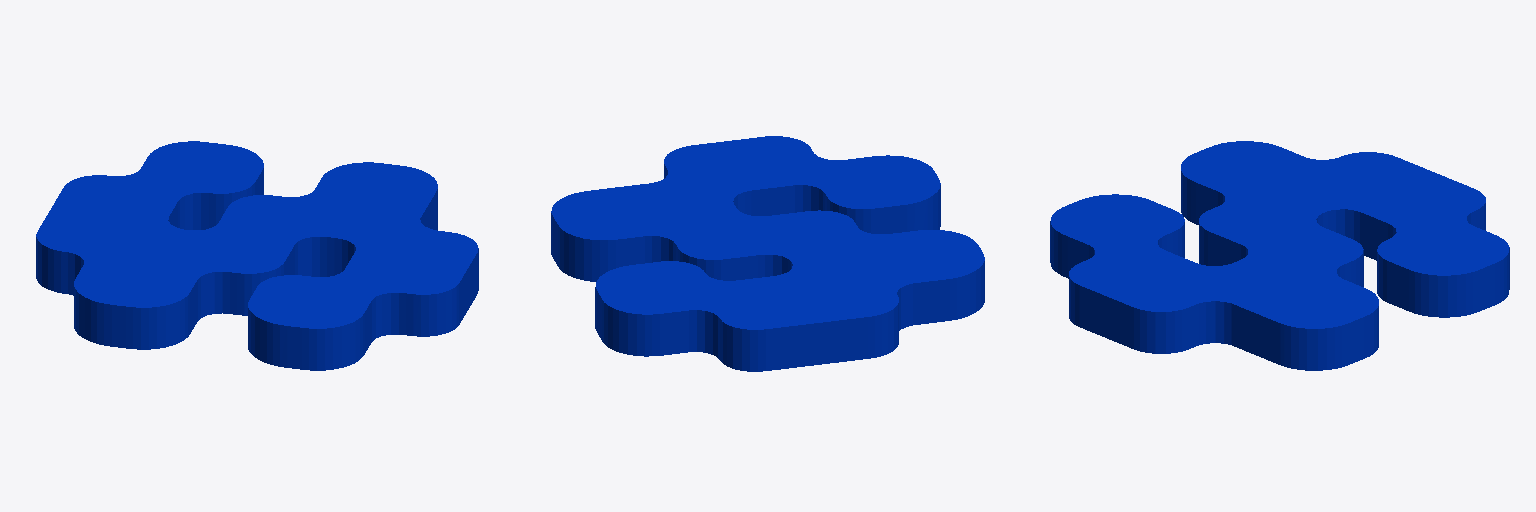
The model's file is strada_obj.obj.
The picture shows the model from 3 angles: view 1: azimuth 30°, elevation 25°; view 2: azimuth 150°, elevation 25°; view 3: azimuth 270°, elevation 25°; orthographic projection.
Parts seen in each view (by area): view 1: pPlane1 IMG_5309; view 2: pPlane1 IMG_5309; view 3: pPlane1 IMG_5309.
Part boxes in pixels (bbox=[...]): pPlane1 IMG_5309: bbox=[36, 141, 478, 370]; pPlane1 IMG_5309: bbox=[551, 136, 984, 371]; pPlane1 IMG_5309: bbox=[1050, 141, 1509, 370].
Size of the model in its own units: 0.9504 by 0.0989 by 0.9818.